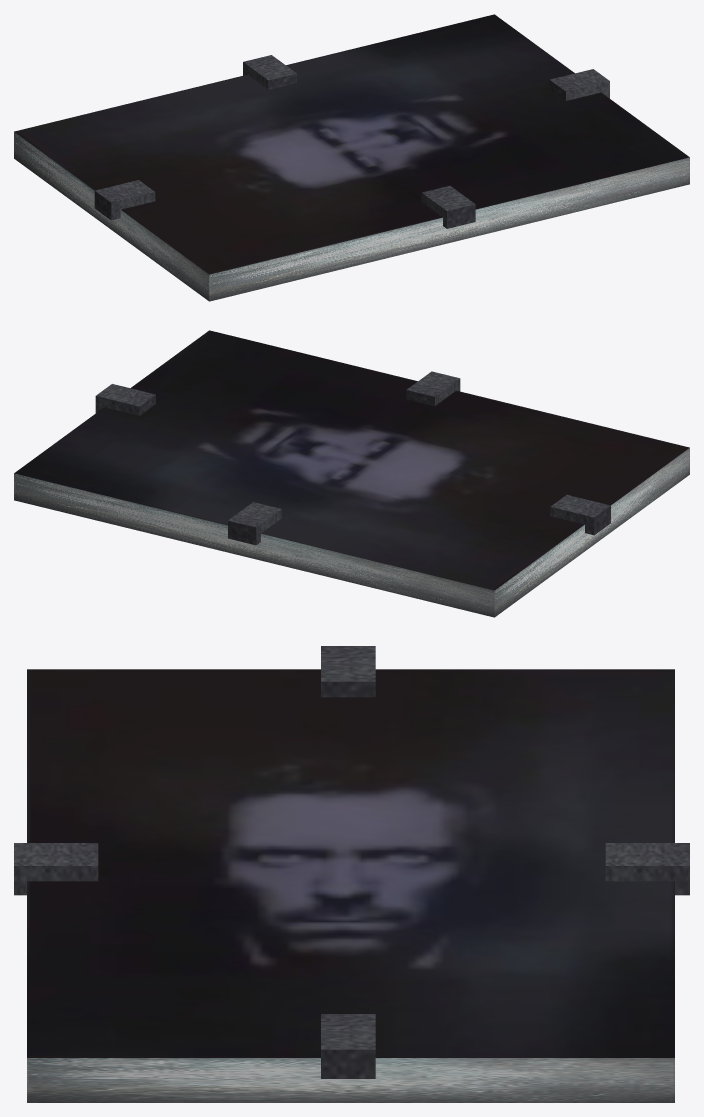
The model's file is frame11.FBX.
The picture shows the model from 3 angles, top to bottom: view 1: azimuth 30°, elevation 25°; view 2: azimuth 150°, elevation 25°; view 3: azimuth 270°, elevation 25°; orthographic projection. The views are drawn at different scales.
Parts seen in each view (by area): view 1: Object001, Box001, Box004, Box002, Box005, Box003; view 2: Object001, Box001, Box004, Box003, Box005, Box002; view 3: Object001, Box001, Box005, Box003, Box002, Box004.
Part boxes in pixels (left/top/right/bottom): Object001: left=14, top=14, right=689, bottom=274; Box001: left=14, top=132, right=689, bottom=301; Box004: left=94, top=180, right=155, bottom=220; Box002: left=421, top=185, right=475, bottom=228; Box005: left=549, top=69, right=609, bottom=100; Box003: left=243, top=55, right=296, bottom=89; Object001: left=14, top=330, right=689, bottom=590; Box001: left=14, top=448, right=689, bottom=617; Box004: left=550, top=495, right=610, bottom=535; Box003: left=228, top=502, right=281, bottom=545; Box005: left=95, top=384, right=155, bottom=415; Box002: left=406, top=371, right=460, bottom=406; Object001: left=27, top=669, right=674, bottom=1057; Box001: left=27, top=1058, right=674, bottom=1102; Box005: left=321, top=1014, right=375, bottom=1078; Box003: left=605, top=843, right=689, bottom=895; Box002: left=14, top=843, right=98, bottom=895; Box004: left=321, top=646, right=375, bottom=697.
Size of the model in its own units: 93.56 by 6.52 by 66.26.
4 materials, 4 textured.
